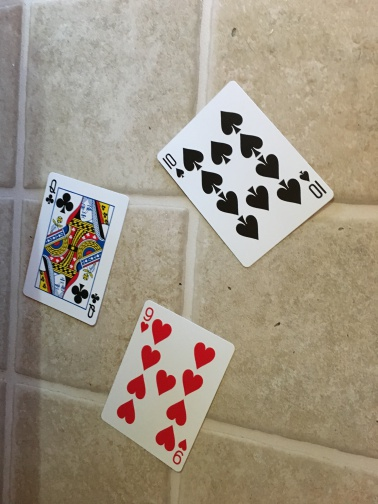nine: (103, 301, 236, 473)
queen: (20, 170, 129, 327)
ten: (157, 79, 336, 268)
